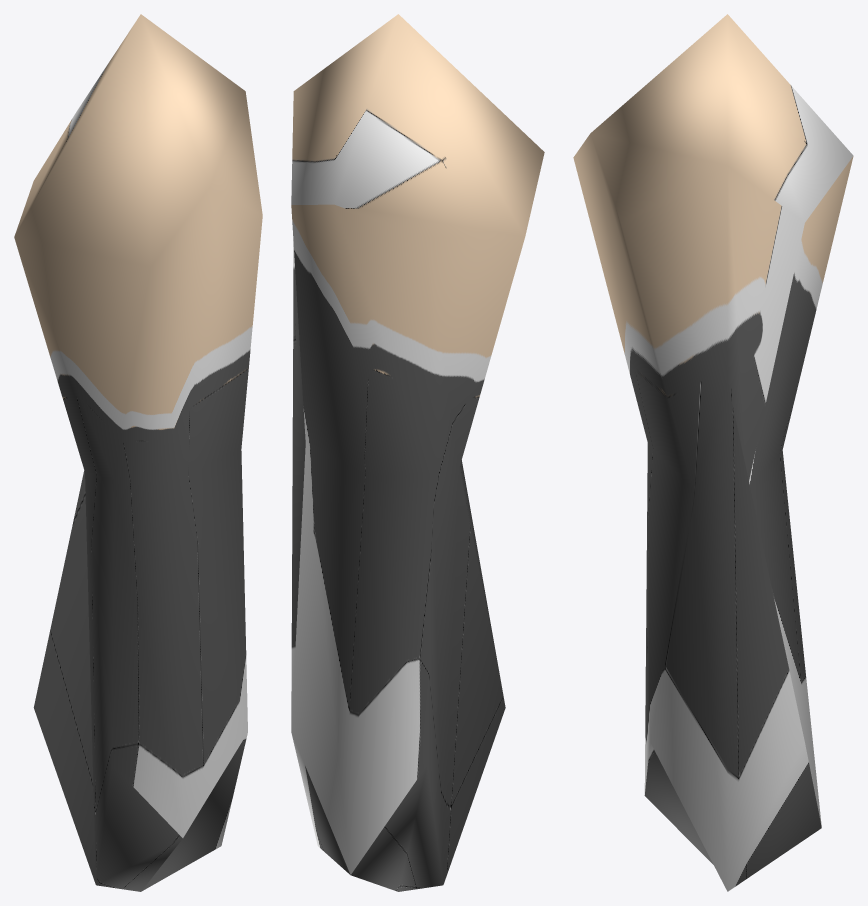
File: playerRightLeg.obj
The picture shows the model from 3 angles, left to right: view 1: azimuth 30°, elevation 25°; view 2: azimuth 150°, elevation 25°; view 3: azimuth 270°, elevation 25°; orthographic projection.
Visible parts, largest first — view 1: 右足; view 2: 右足; view 3: 右足.
Part boxes in pixels (bbox=[...]): 右足: bbox=[14, 14, 262, 891]; 右足: bbox=[291, 14, 544, 891]; 右足: bbox=[573, 14, 853, 891].
Size of the model in its own units: 0.29 by 1.05 by 0.3082.
1 material, 1 textured.
